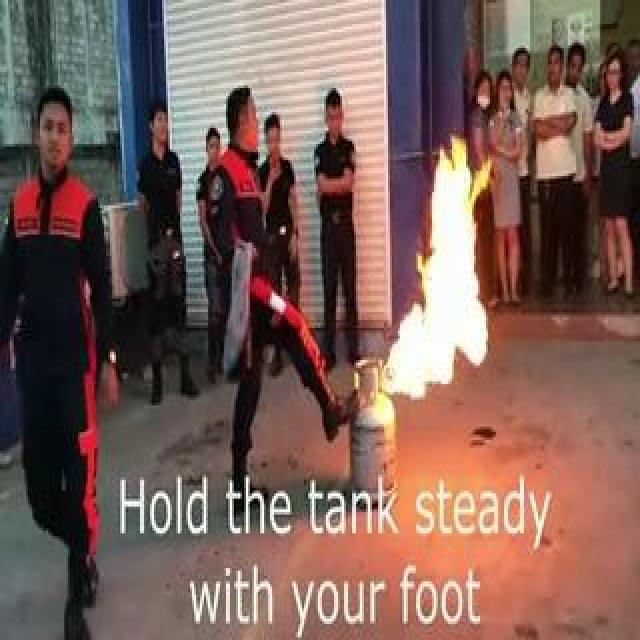Smoke: (401, 102, 471, 414)
